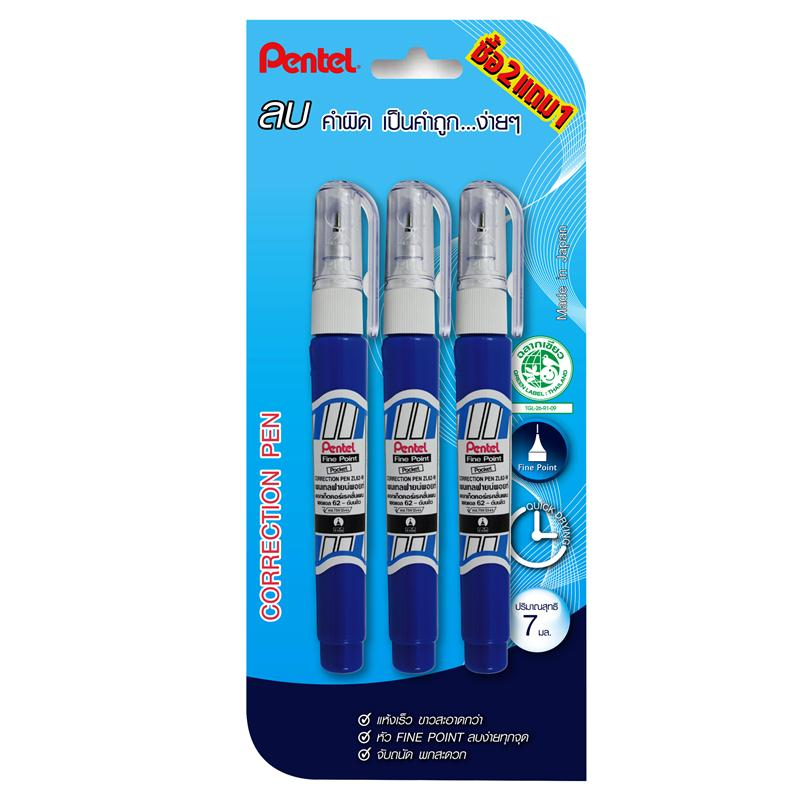Correction_fluid: (454, 176, 533, 681), (376, 176, 454, 678), (307, 175, 382, 679)
